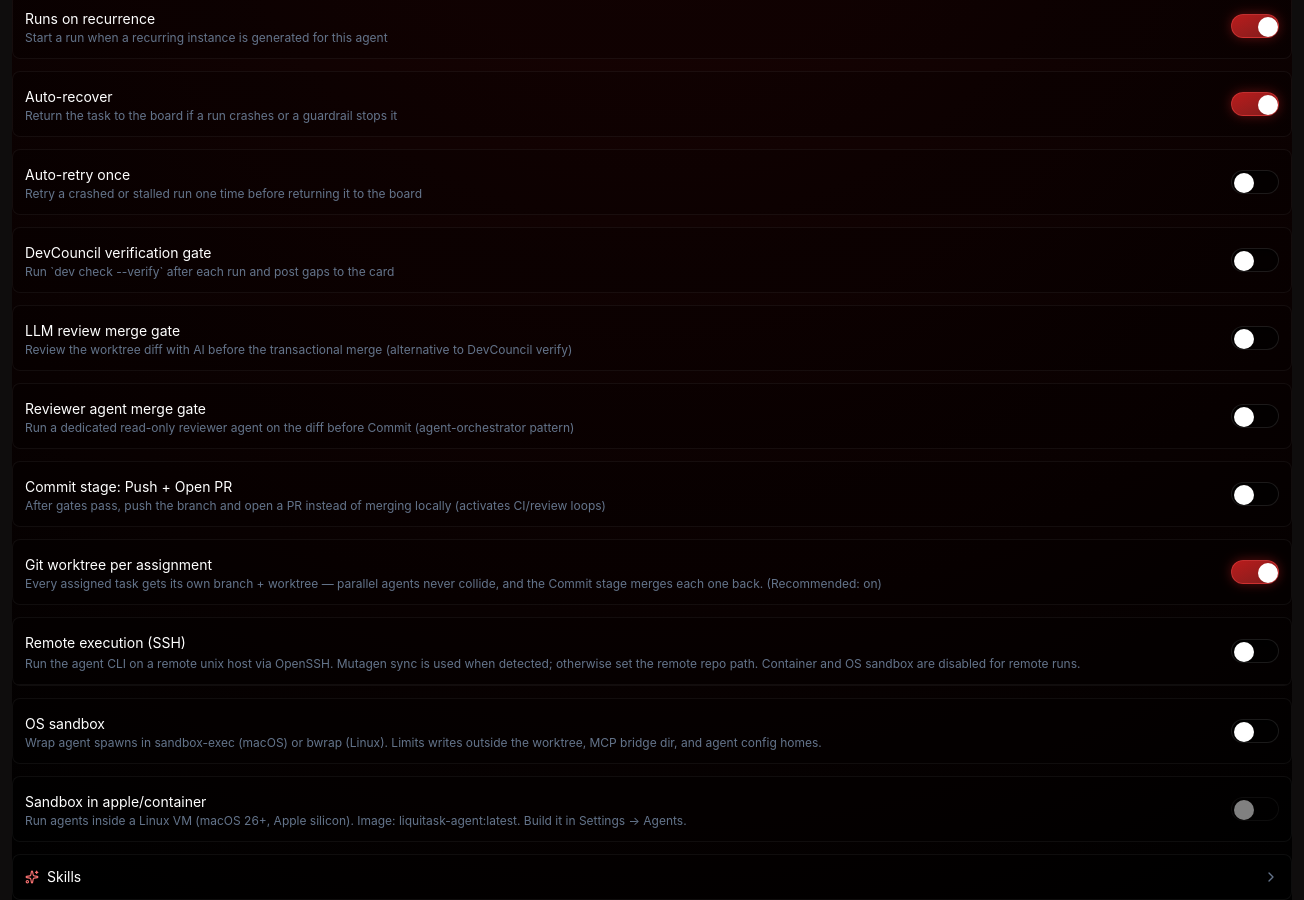
Test: AgentForm › filters pinned skills by search query
(page scrolled)
Step 1. Click the button "Skills" → (64, 876), box [13,855,1291,899]
(page scrolled)
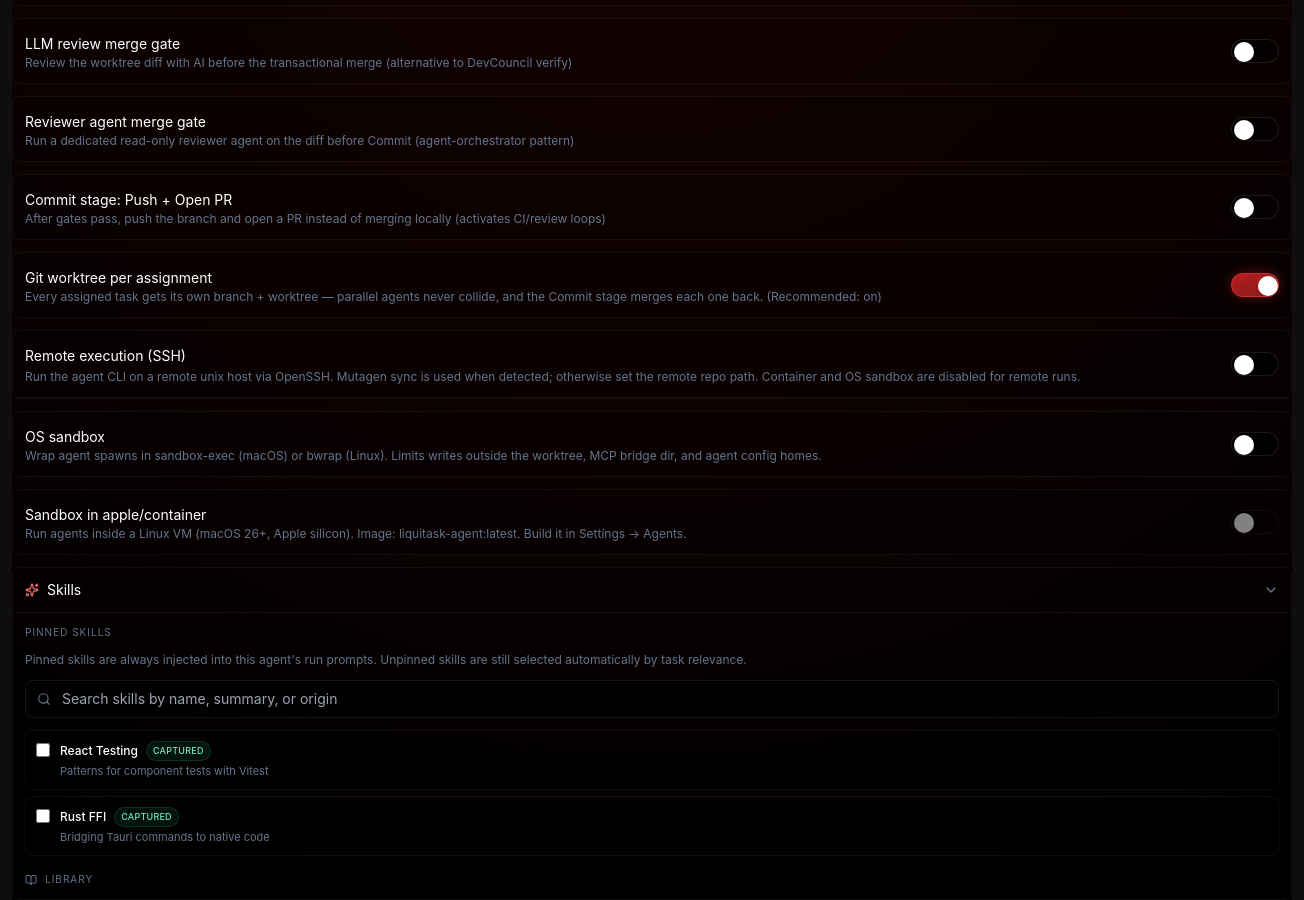
Check: the text "React Testing" is shown, box [60,743,138,759]
Check: the text "Rust FFI" is shown, box [60,809,106,825]
Step 2. Type "react" into the field labelled "Search skills" → (652, 699), box [25,680,1279,718]
(page scrolled)
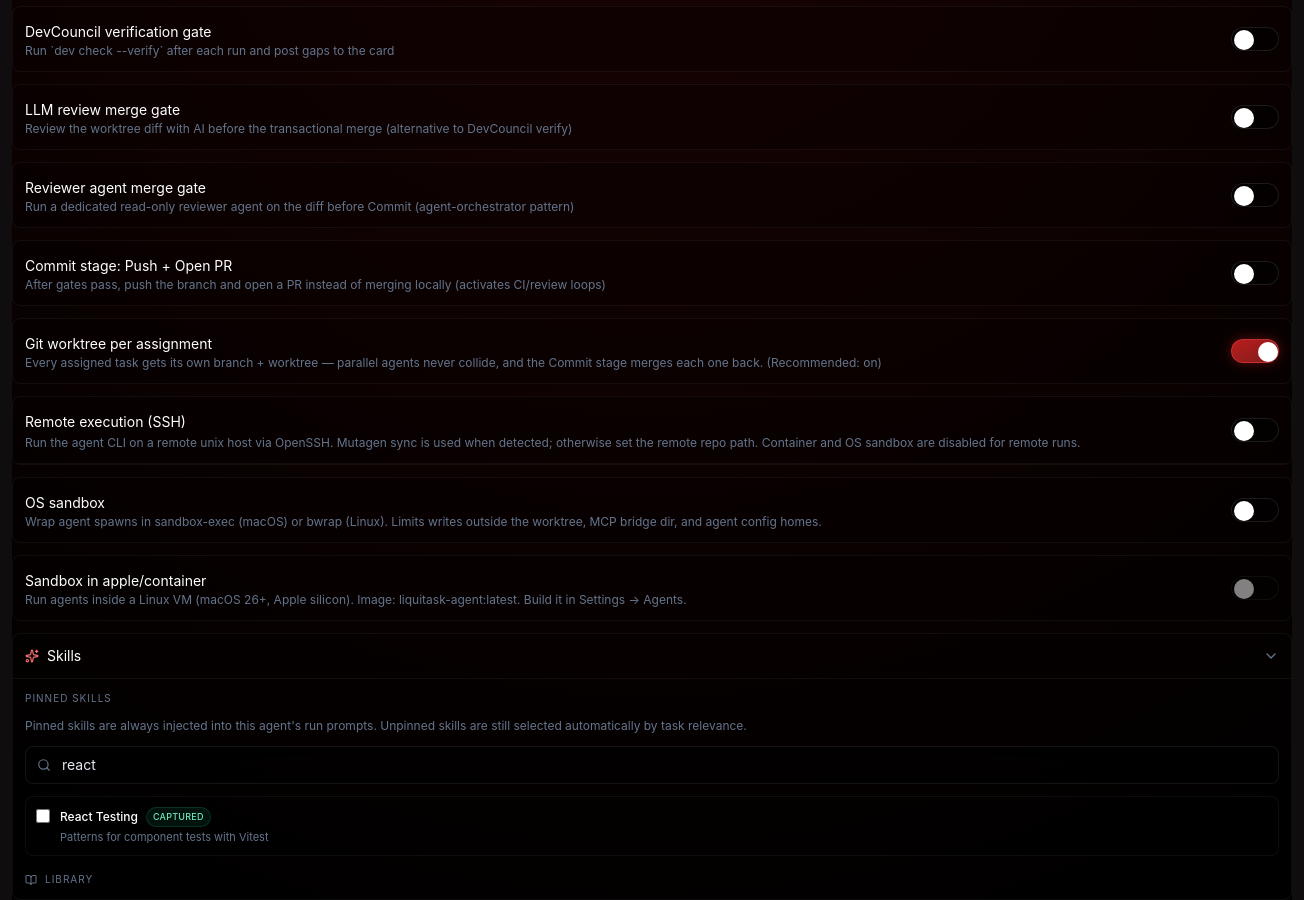
Check: the text "React Testing" is shown, box [60,809,138,825]
Check: the text "Rust FFI" is gone
